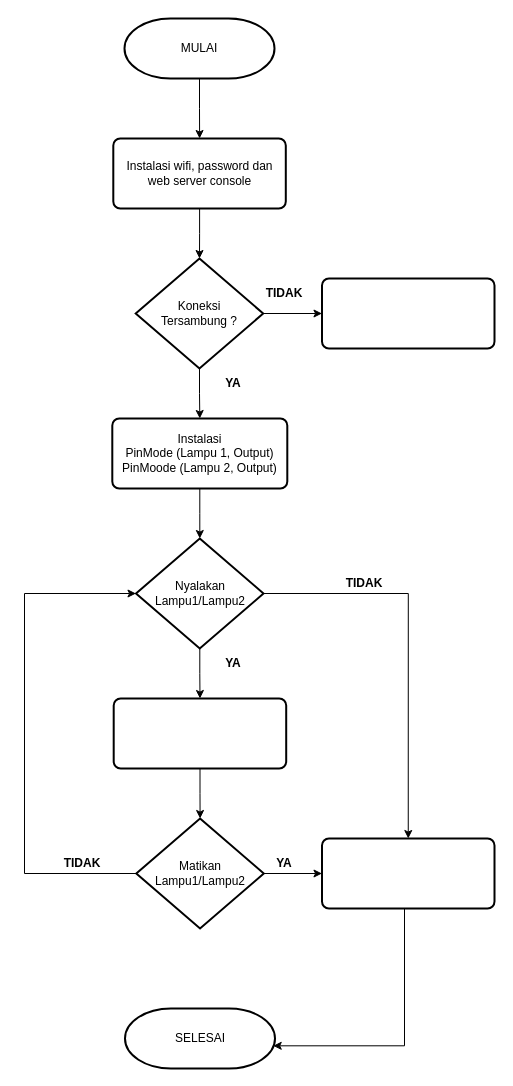
This 513x1086 diagram has some shape labels left out. The shapes that lost their labels are listed below. From the top down, each one's centre as x and y in pixels, then its label:
(407,313): Konfigurasi ulang wemos ESP8266
(199,733): Lampu 1 / Lampu 2 menyala
(407,873): Lampu 1 / Lampu 2 mati
